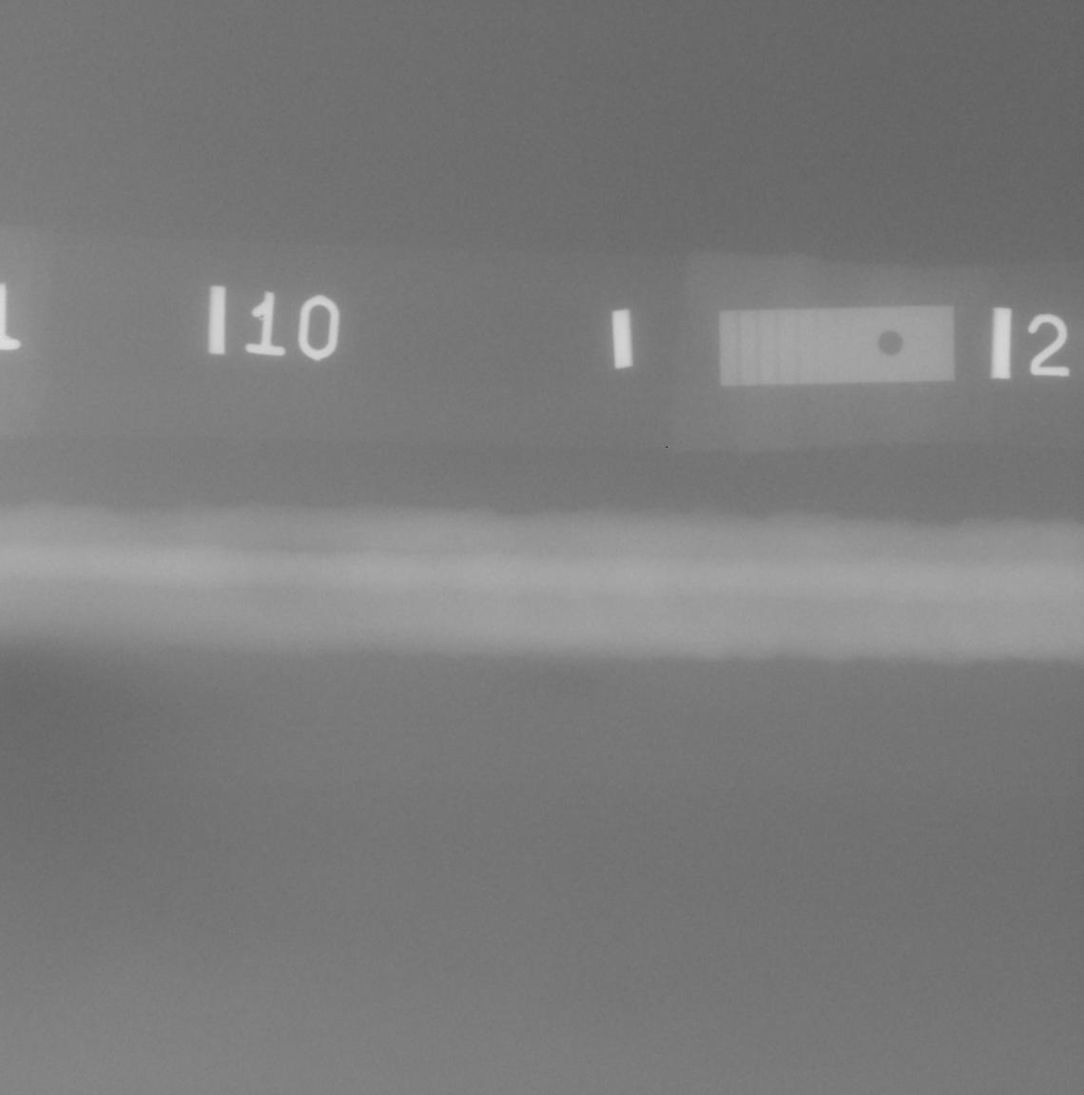Reference Standard 1: (718, 304, 955, 387)
